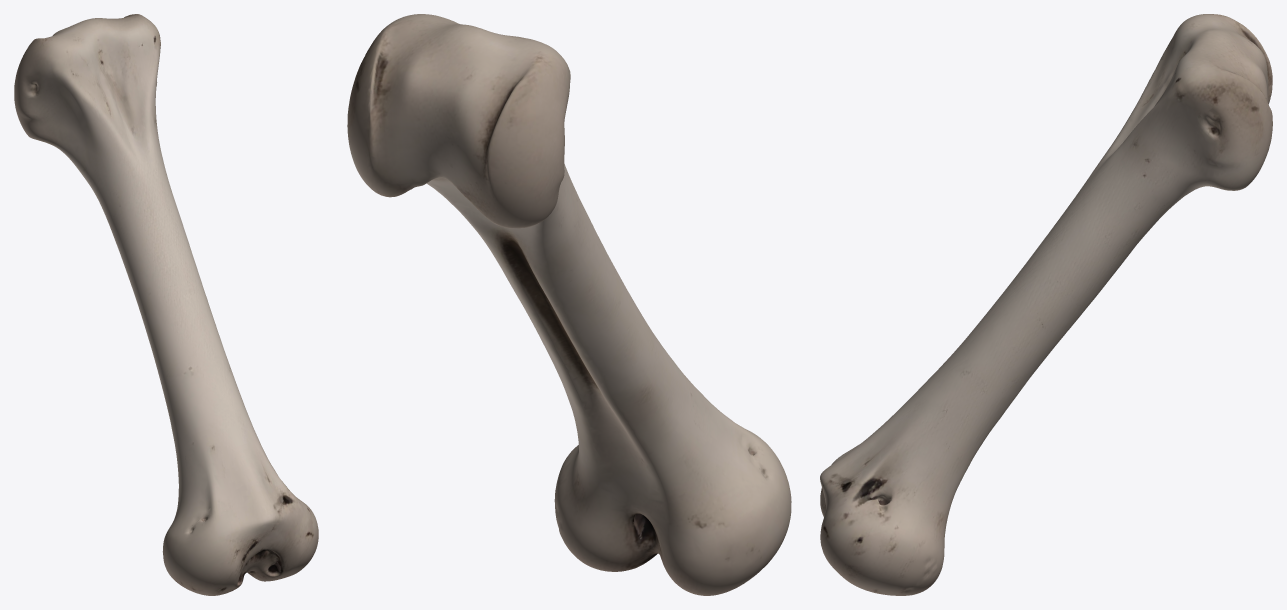
The model's file is dog-humerus.glb.
The picture shows the model from 3 angles, left to right: view 1: azimuth 30°, elevation 25°; view 2: azimuth 150°, elevation 25°; view 3: azimuth 270°, elevation 25°; orthographic projection. The views are drawn at different scales.
Visible parts, largest first — view 1: model; view 2: model; view 3: model.
Part boxes in pixels (<box>): model: <box>14,14,318,595</box>; model: <box>347,14,791,595</box>; model: <box>820,14,1272,595</box>.
Bounding box in the file's own units: 0.6154 × 1.9 × 1.44.
Materials: 1 (1 with a texture image).
